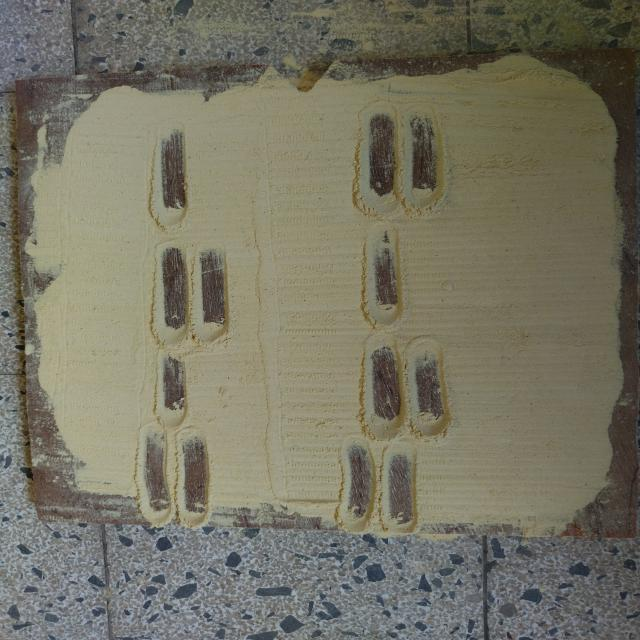double: (354, 330, 468, 444), (142, 234, 244, 351), (346, 101, 452, 212), (129, 424, 223, 530), (335, 437, 433, 537)
single: (358, 208, 414, 336), (142, 125, 202, 232), (147, 350, 195, 432)
